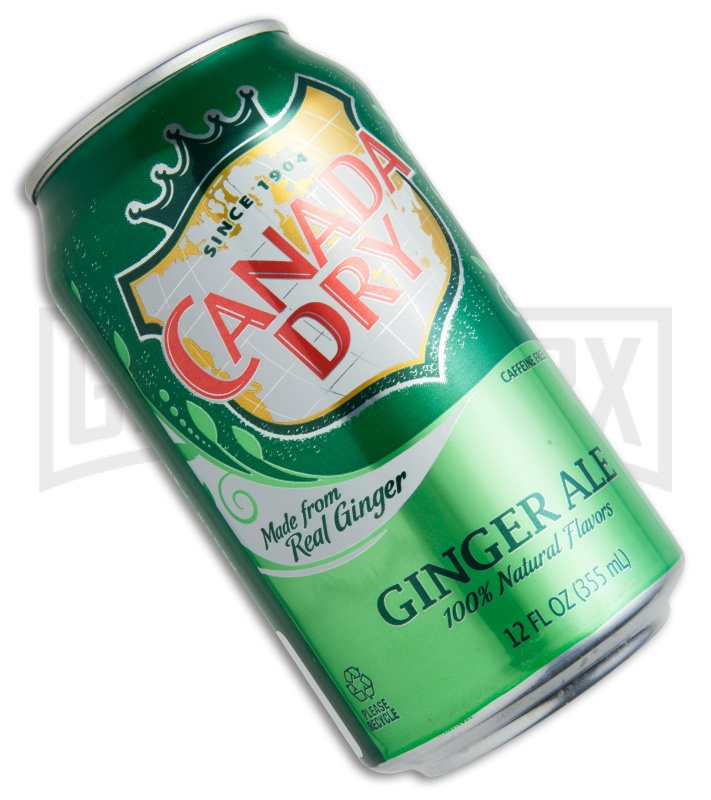Lata: (9, 7, 695, 794)
